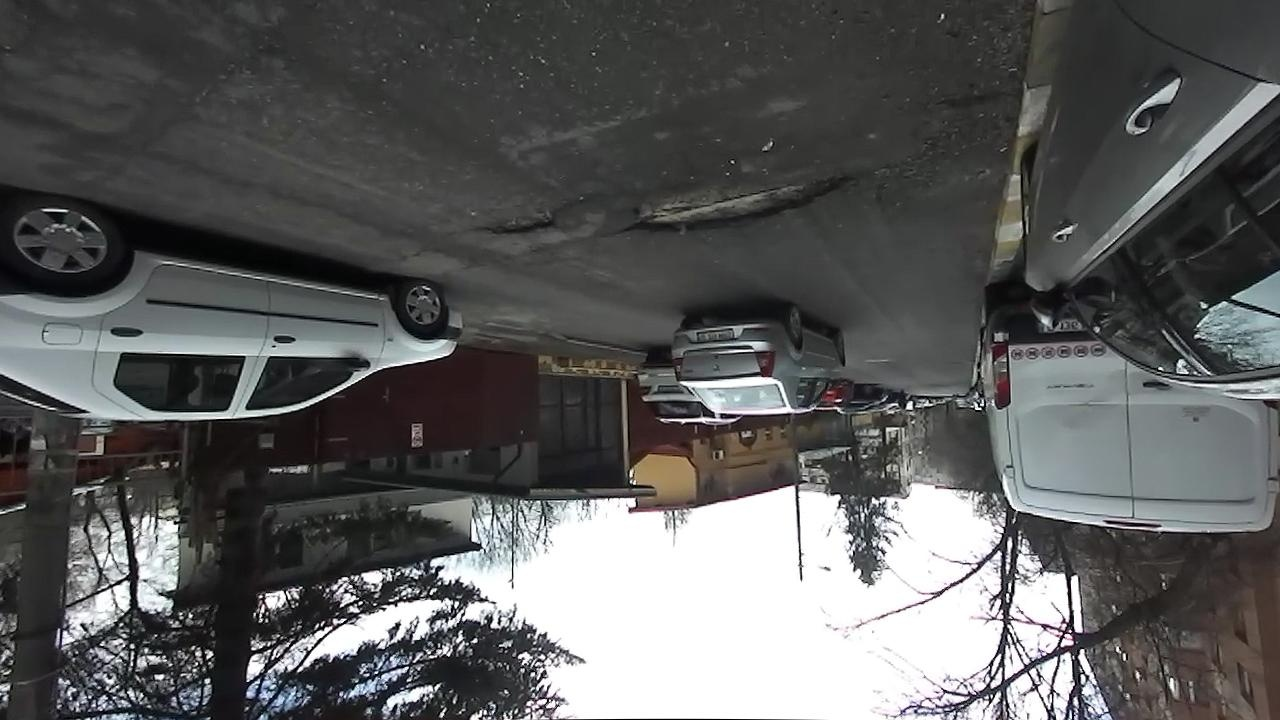pothole: (623, 168, 860, 238), (477, 201, 573, 241)
